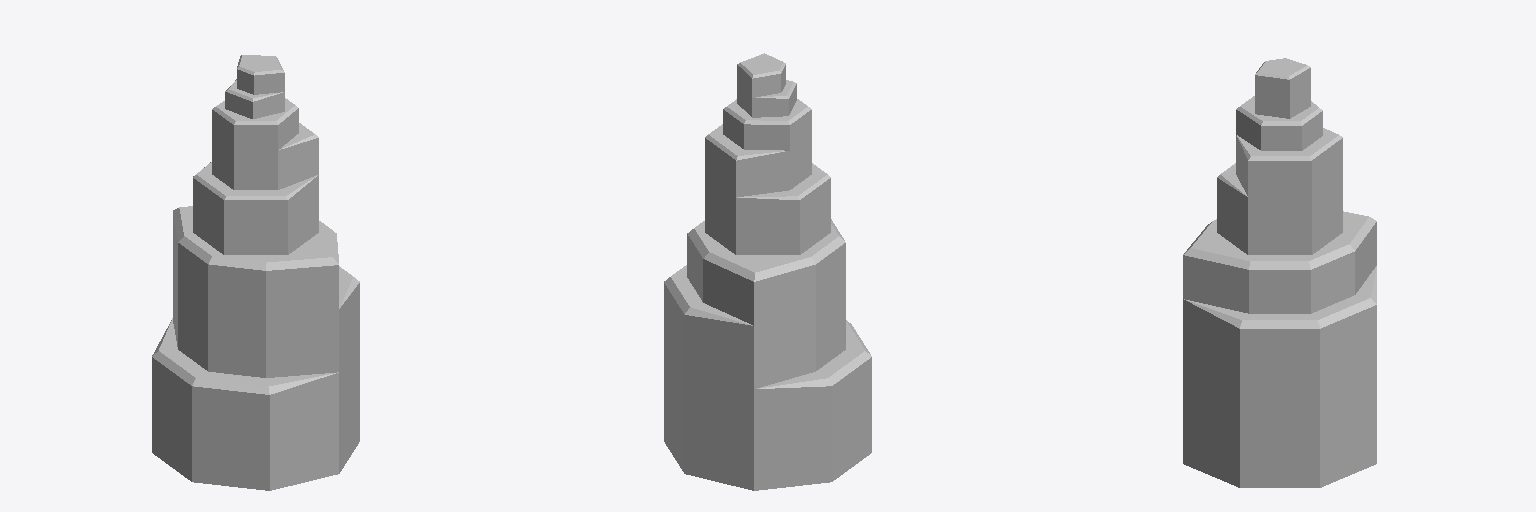
The model's file is Rock_1_O_Color1.obj.
The picture shows the model from 3 angles: view 1: azimuth 30°, elevation 25°; view 2: azimuth 150°, elevation 25°; view 3: azimuth 270°, elevation 25°; orthographic projection.
Parts seen in each view (by area): view 1: Rock_1_O_Color1; view 2: Rock_1_O_Color1; view 3: Rock_1_O_Color1.
Boxes of the visible parts, x1=… form: Rock_1_O_Color1: x1=152, y1=55, x2=359, y2=490; Rock_1_O_Color1: x1=664, y1=53, x2=871, y2=490; Rock_1_O_Color1: x1=1183, y1=58, x2=1376, y2=487.
Size of the model in its own units: 2.11 by 4.58 by 2.11.